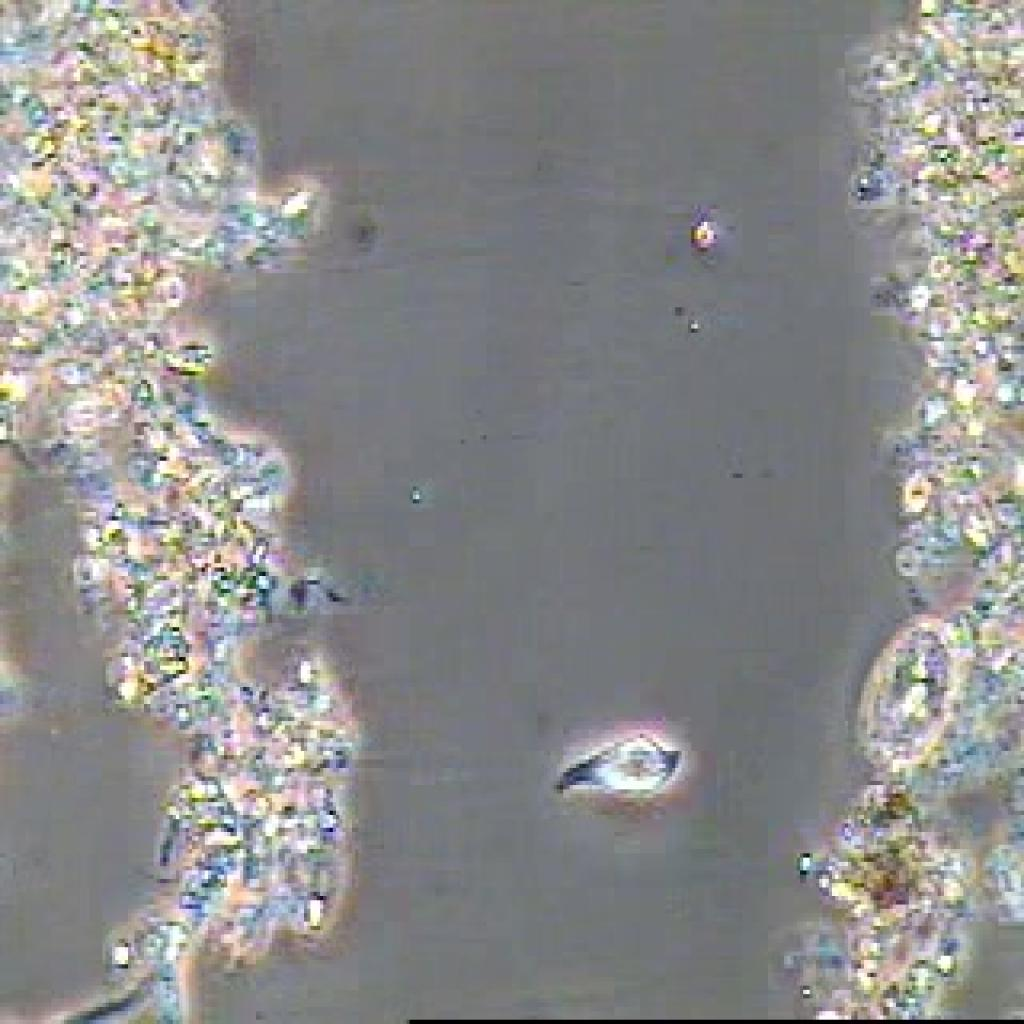Pristina: (555, 715, 690, 817)
